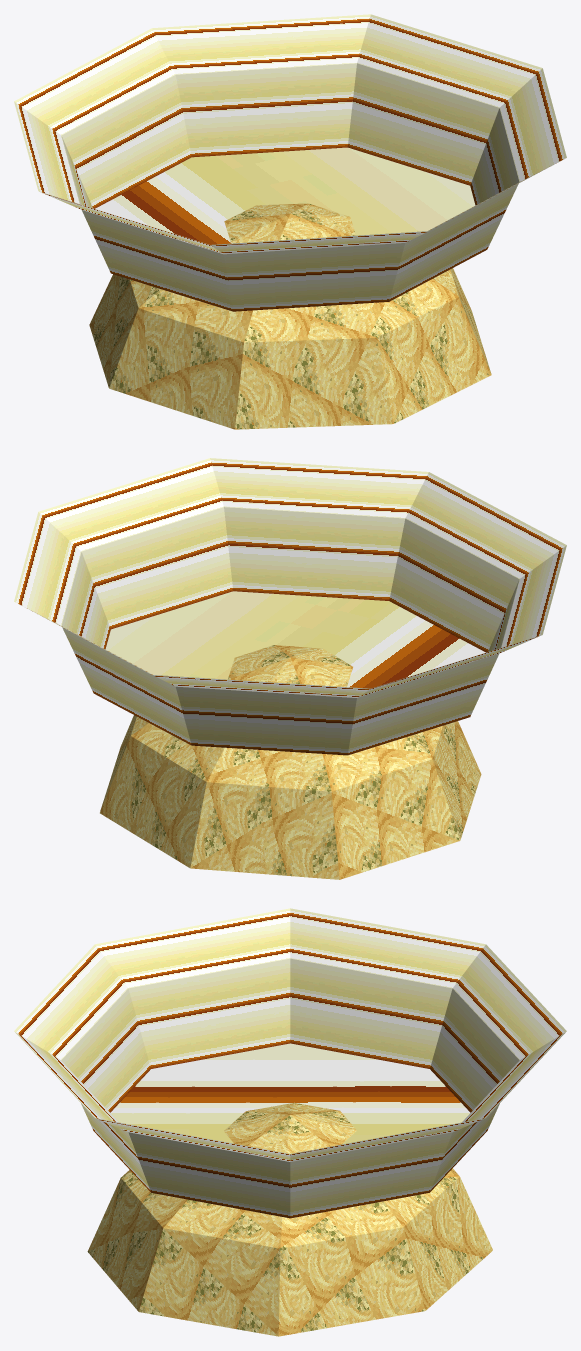
File: 1381item2771r.gltf
3 renders of one model, top to bottom at view 1: azimuth 30°, elevation 25°; view 2: azimuth 150°, elevation 25°; view 3: azimuth 270°, elevation 25°, orthographic.
Parts seen in each view (by area): view 1: 1381item2771r; view 2: 1381item2771r; view 3: 1381item2771r.
Boxes of the visible parts, bbox=[...] form: 1381item2771r: bbox=[14, 14, 566, 429]; 1381item2771r: bbox=[14, 458, 566, 879]; 1381item2771r: bbox=[14, 908, 566, 1336].
Size of the model in its own units: 0.5991 by 0.2501 by 0.57.
2 materials, 2 textured.
